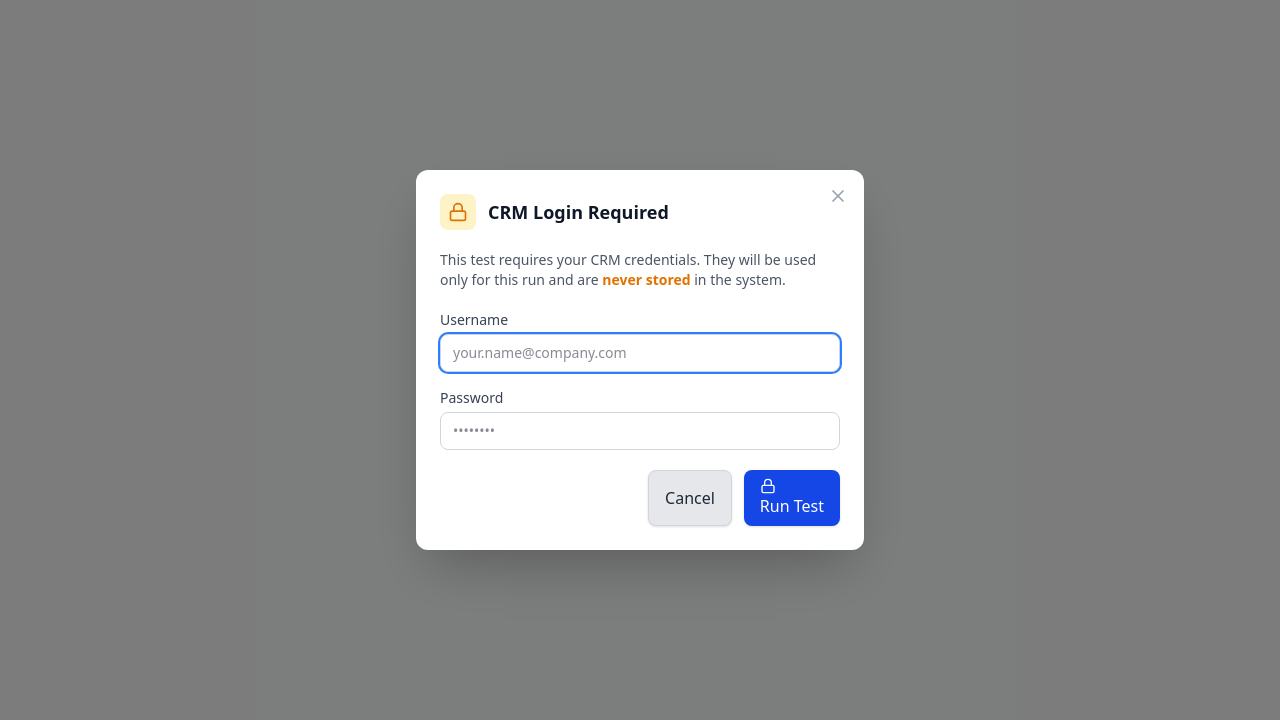
it: CredentialPromptModal › submitting with empty password shows validation error
Type "user@crm.com" into the field with test id "crm-username-input" at (640, 353), box [440,334,840,372]
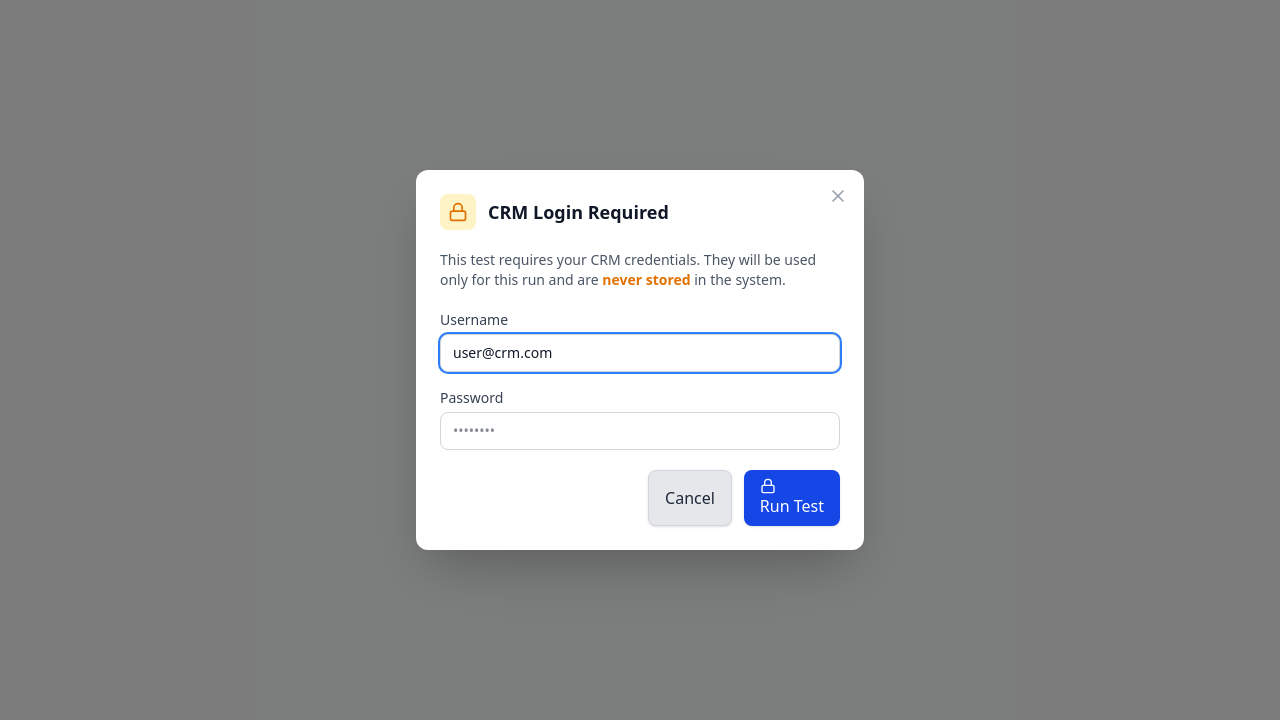
password left empty
Click the button with test id "crm-modal-confirm" at (792, 498), box [744,470,840,526]
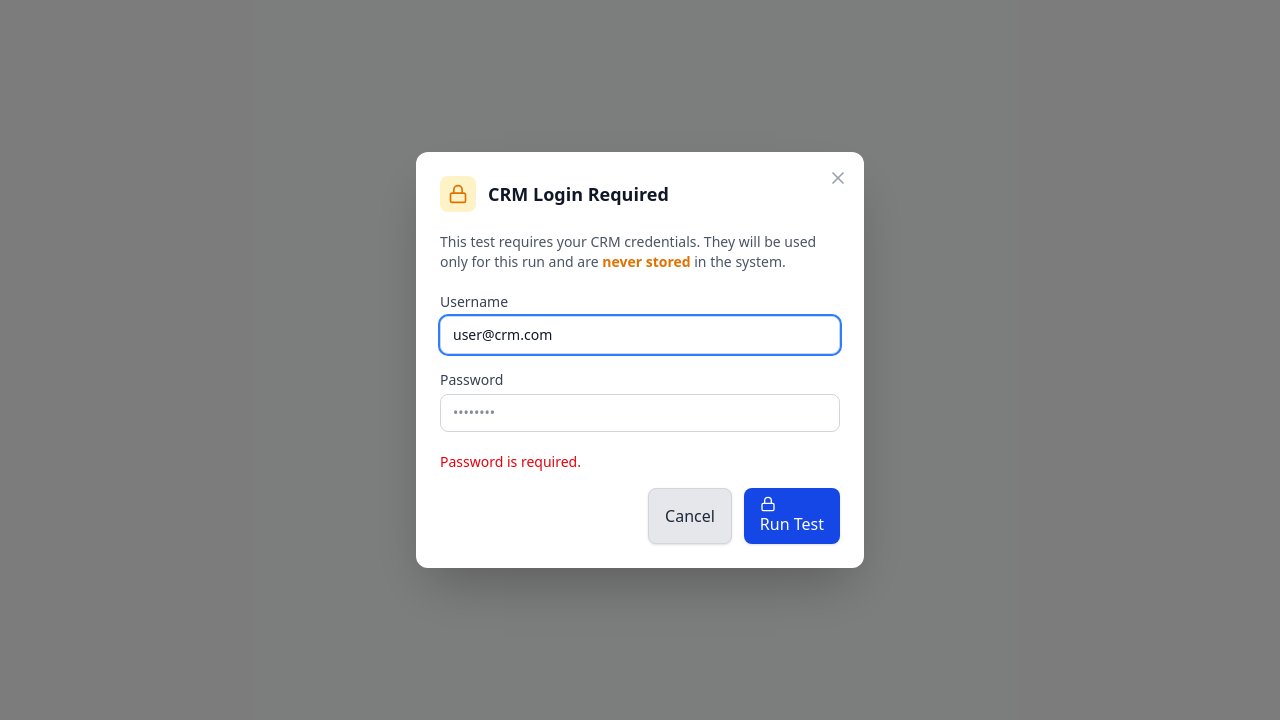
Now the message with test id "crm-modal-error" shows "Password", box [440,452,581,471]
